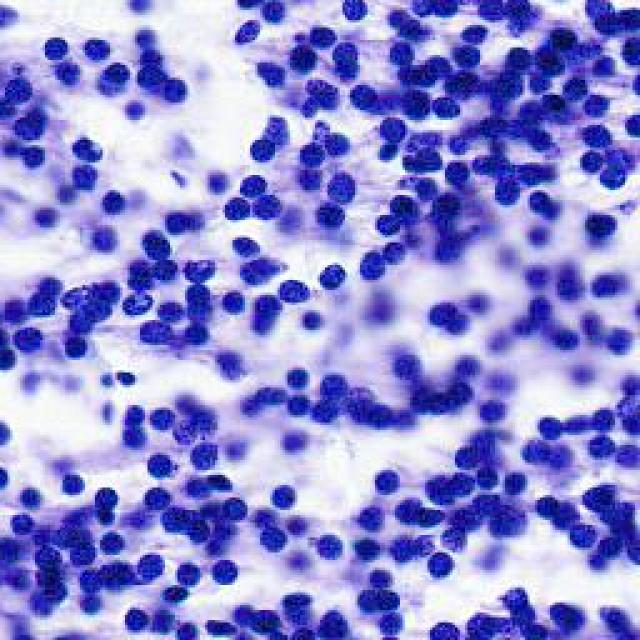cell: (389, 379, 487, 415), (423, 298, 479, 337), (75, 221, 130, 256), (0, 110, 51, 146), (595, 598, 640, 638), (14, 288, 64, 322), (439, 442, 492, 473), (354, 580, 404, 612), (28, 582, 68, 622), (208, 352, 259, 382), (366, 462, 408, 497), (546, 591, 580, 634), (190, 400, 230, 436), (257, 480, 310, 507), (459, 607, 502, 640), (267, 273, 312, 304), (383, 408, 422, 443), (556, 525, 606, 552), (78, 36, 122, 66), (184, 444, 228, 474), (94, 186, 135, 218), (269, 591, 314, 620), (170, 557, 206, 593), (76, 588, 110, 624), (2, 327, 52, 351), (144, 447, 178, 482), (424, 548, 462, 579), (92, 64, 126, 98), (136, 488, 178, 515), (46, 470, 94, 493), (194, 171, 234, 198), (115, 398, 152, 427), (67, 538, 99, 570), (14, 480, 48, 510), (94, 483, 129, 512), (75, 139, 119, 162), (136, 322, 178, 346), (348, 393, 376, 429), (223, 231, 260, 258), (33, 545, 65, 576), (29, 272, 74, 294), (381, 354, 426, 376), (506, 466, 532, 504), (0, 67, 32, 97), (2, 510, 42, 534), (117, 603, 149, 633), (154, 585, 196, 607), (119, 98, 154, 124), (124, 283, 154, 313), (180, 320, 212, 348), (103, 364, 140, 388), (300, 136, 329, 166), (321, 371, 351, 400), (159, 503, 189, 532), (26, 200, 54, 231), (79, 564, 107, 595), (206, 559, 240, 584), (0, 536, 20, 578), (251, 138, 283, 164), (501, 584, 534, 609), (517, 601, 542, 634), (64, 167, 103, 188), (531, 300, 557, 331), (534, 416, 570, 438), (60, 505, 82, 541), (427, 620, 465, 640), (18, 134, 41, 167), (61, 327, 88, 355), (172, 613, 200, 640), (139, 554, 168, 580), (98, 528, 129, 552), (0, 0, 20, 37), (160, 83, 190, 105), (120, 432, 146, 456), (174, 391, 201, 414), (45, 33, 65, 61), (0, 410, 12, 456), (57, 65, 81, 87), (290, 363, 306, 394), (0, 457, 8, 498), (0, 99, 13, 121)
